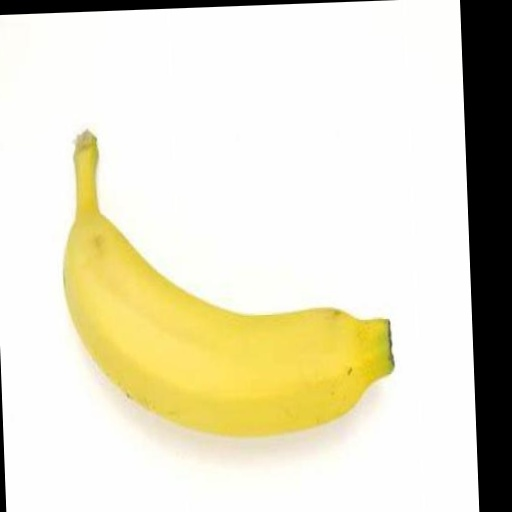fruit: (63, 132, 392, 435)
